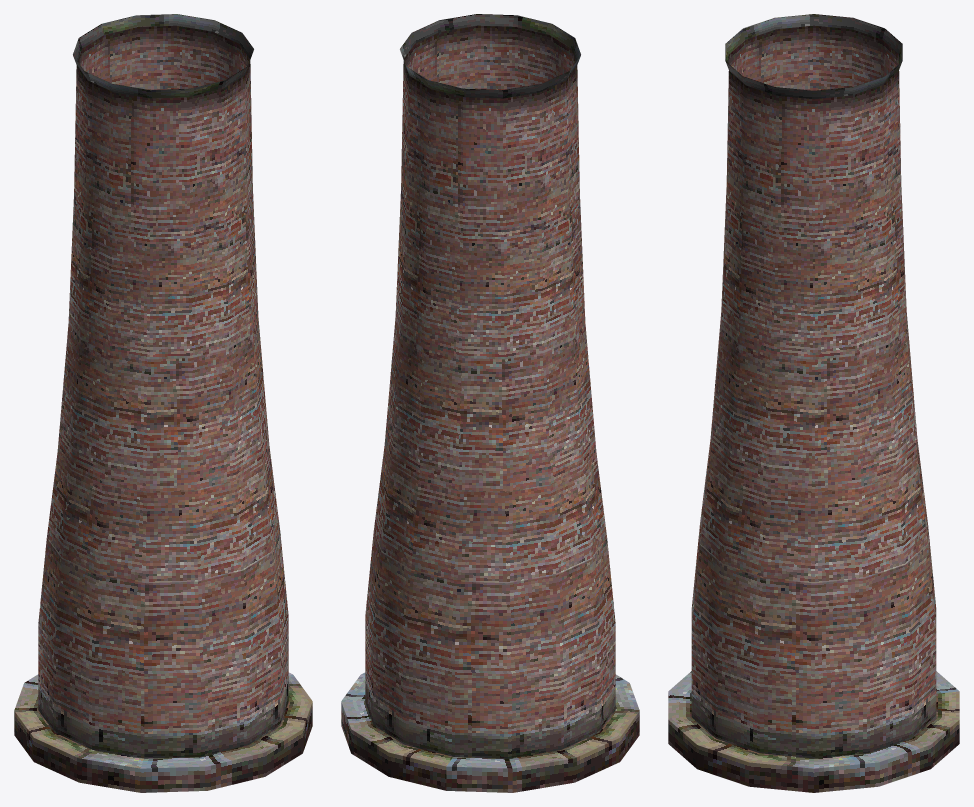
The model's file is cooling_tower.glb.
3 views of the same model, side by side, from view 1: azimuth 30°, elevation 25°; view 2: azimuth 150°, elevation 25°; view 3: azimuth 270°, elevation 25° (orthographic).
Visible parts, largest first — view 1: Cooling_tower; view 2: Cooling_tower; view 3: Cooling_tower.
Part boxes in pixels (bbox=[...]): Cooling_tower: bbox=[14, 14, 312, 792]; Cooling_tower: bbox=[341, 14, 639, 792]; Cooling_tower: bbox=[668, 14, 959, 792].
Bounding box in the file's own units: 4.52 × 11.29 × 4.4.
1 material, 1 textured.
